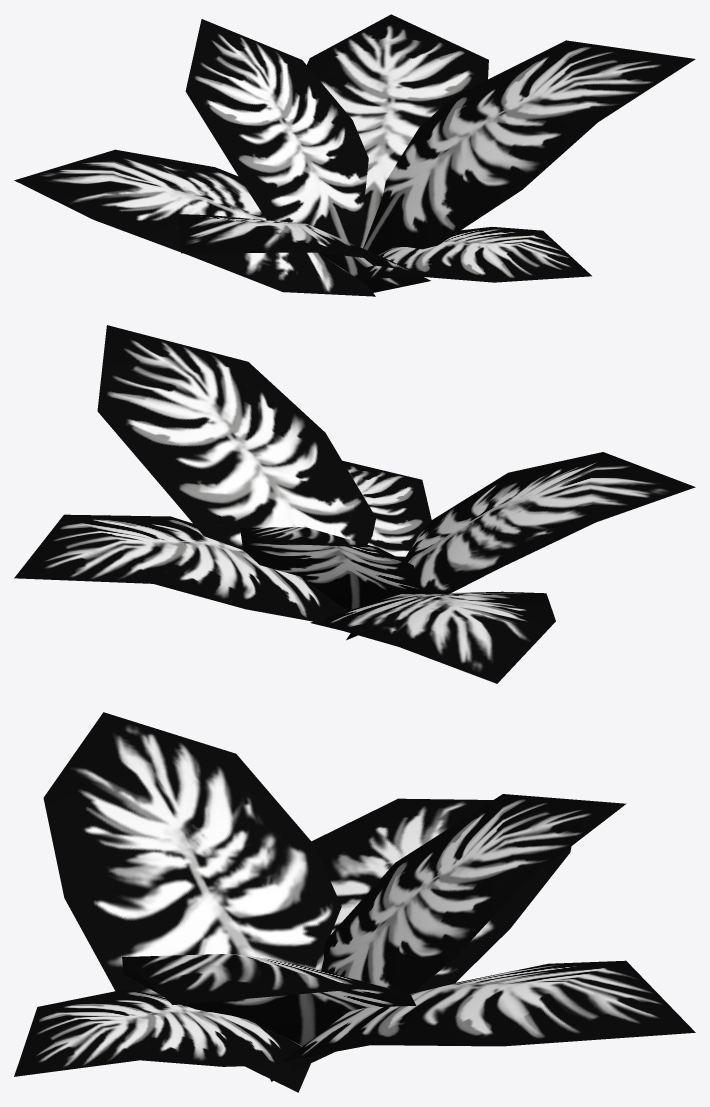
File: FernV1.fbx
3 views of the same model, one above another, from view 1: azimuth 30°, elevation 25°; view 2: azimuth 150°, elevation 25°; view 3: azimuth 270°, elevation 25° (orthographic). The views are drawn at different scales.
Parts seen in each view (by area): view 1: FernV1; view 2: FernV1; view 3: FernV1.
Boxes of the visible parts, bbox=[...] form: FernV1: bbox=[14, 14, 695, 296]; FernV1: bbox=[14, 325, 695, 683]; FernV1: bbox=[14, 712, 695, 1092].
Size of the model in its own units: 2.13 by 0.7563 by 1.75.
